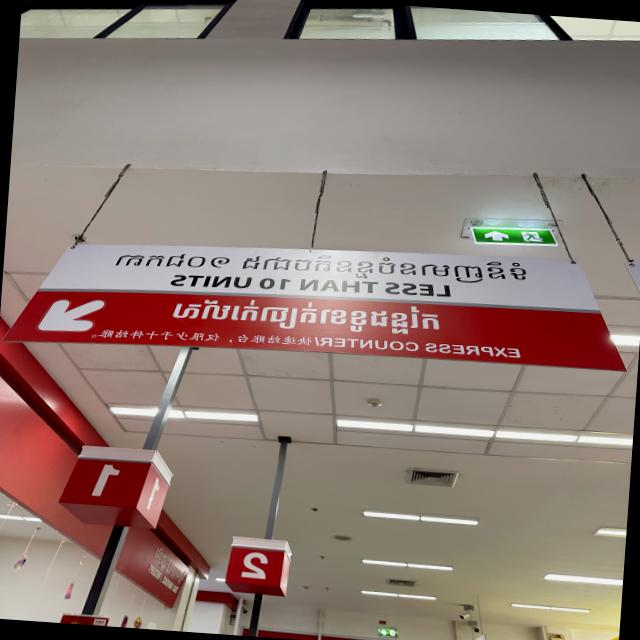1: (113, 247, 541, 289)
Yolov11kh: (164, 292, 456, 340)
